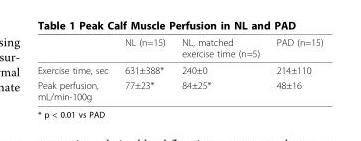table: (36, 36, 322, 101)
table column: (172, 36, 267, 101), (36, 36, 116, 101), (116, 36, 172, 101), (267, 36, 322, 101)
table column header: (36, 36, 322, 61)
table row: (36, 36, 322, 61), (36, 77, 322, 101), (36, 61, 322, 77)
